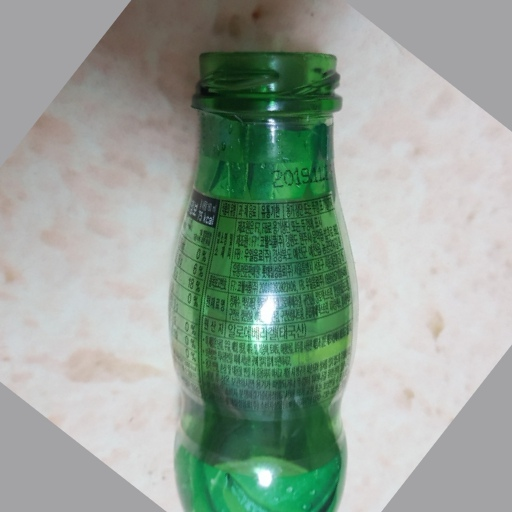Glass_4: (163, 44, 361, 512)
